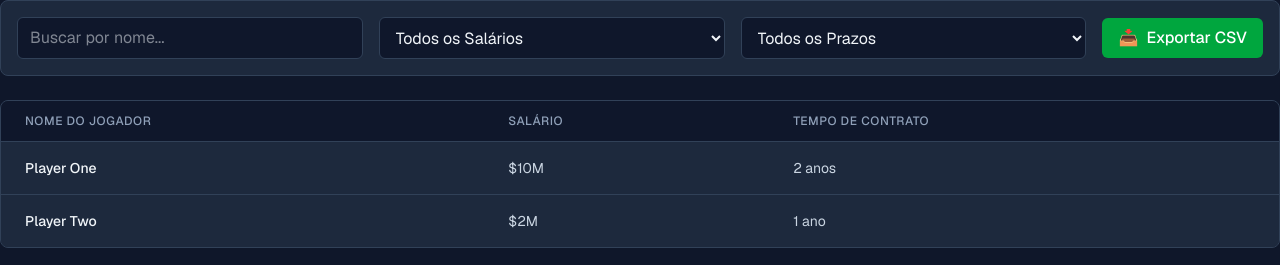
Test: ActiveContractsReport › filters by salary
Select "Baixo (< $5M)" in the dropdown named "Filtrar por salário" at (552, 38), box [379,17,725,59]
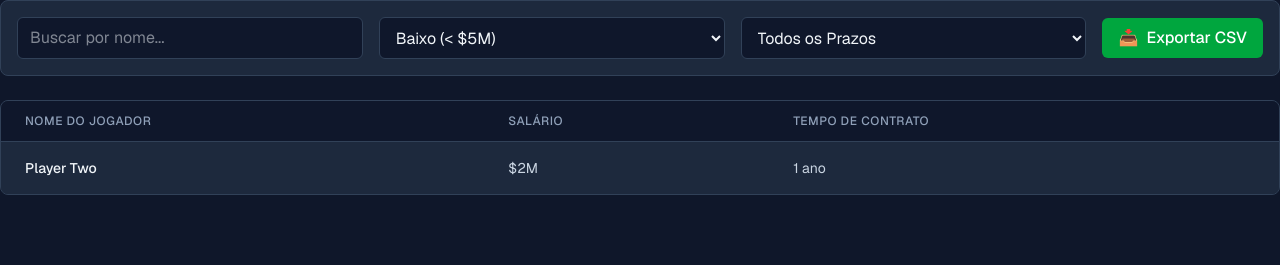
Expected: the text "Player Two" is shown, [1,142,484,194]
Now the text "Player One" is gone
